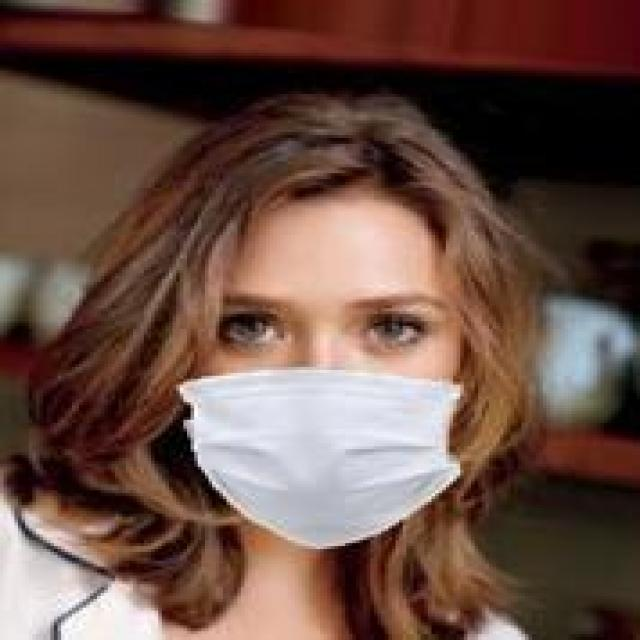mask: (79, 118, 539, 570)
